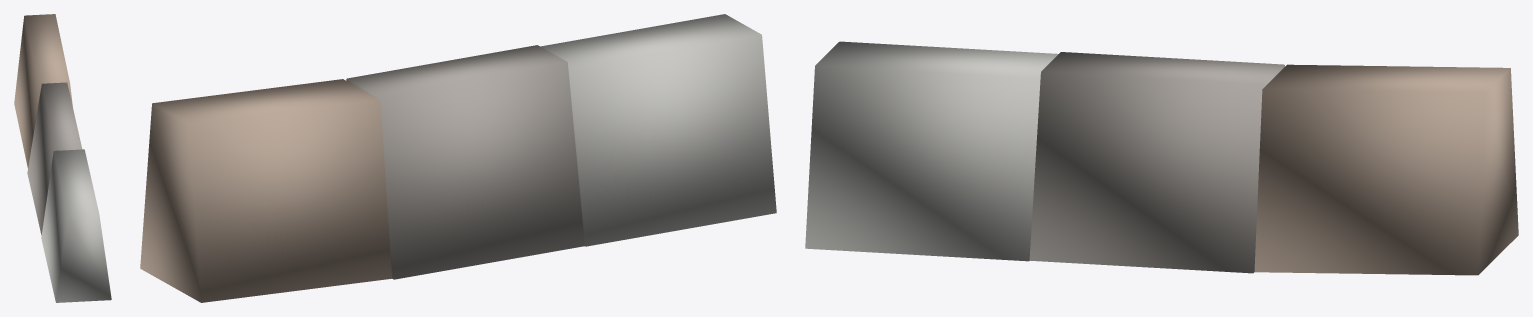
Rendered from farm_-55_-53_collision.glb.
3 views of the same model, side by side, from view 1: azimuth 30°, elevation 25°; view 2: azimuth 150°, elevation 25°; view 3: azimuth 270°, elevation 25° (orthographic). The views are drawn at different scales.
Visible parts, largest first — view 1: geometry_0; view 2: geometry_0; view 3: geometry_0.
Part boxes in pixels (left/top/right/bottom): geometry_0: left=14, top=14, right=111, bottom=302; geometry_0: left=140, top=14, right=776, bottom=302; geometry_0: left=805, top=41, right=1518, bottom=275.
Size of the model in its own units: 2.53 by 1.94 by 4.69.
